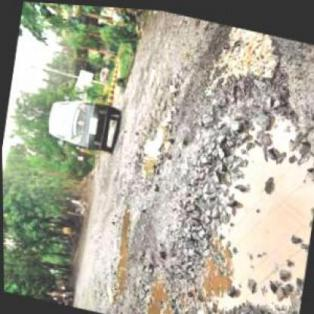Hueco: (127, 100, 176, 182), (105, 202, 141, 296)
